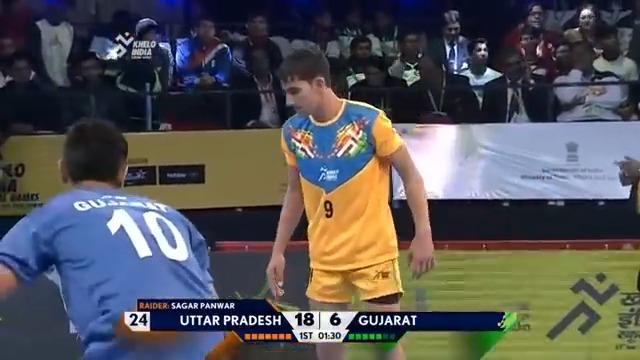Player: (0, 117, 226, 359)
Raider: (264, 47, 436, 358)
referee: (386, 54, 480, 123), (480, 40, 557, 123), (427, 9, 472, 74)
